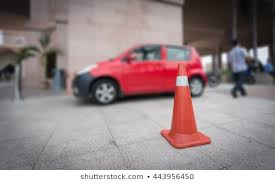car: (73, 45, 207, 106)
cone: (162, 63, 207, 151)
